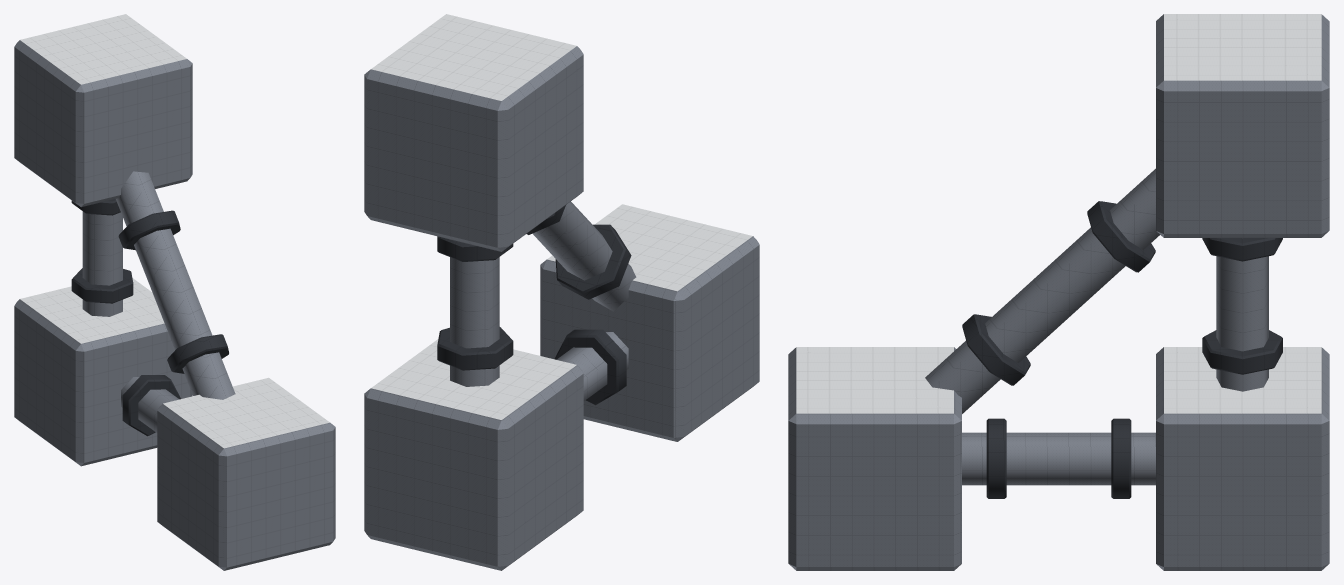
File: R4C_STRUT_RAMP_LOD1.glb
3 views of the same model, side by side, from view 1: azimuth 30°, elevation 25°; view 2: azimuth 150°, elevation 25°; view 3: azimuth 270°, elevation 25° (orthographic). The views are drawn at different scales.
Parts seen in each view (by area): view 1: R4C_STRUT_RAMP_LOD1; view 2: R4C_STRUT_RAMP_LOD1; view 3: R4C_STRUT_RAMP_LOD1.
Boxes of the visible parts, x1,y1,x2,y2 form: R4C_STRUT_RAMP_LOD1: [14, 14, 335, 570]; R4C_STRUT_RAMP_LOD1: [364, 14, 759, 570]; R4C_STRUT_RAMP_LOD1: [788, 14, 1329, 570].
Size of the model in its own units: 0.52 by 1.62 by 1.62.
3 materials, 3 textured.
